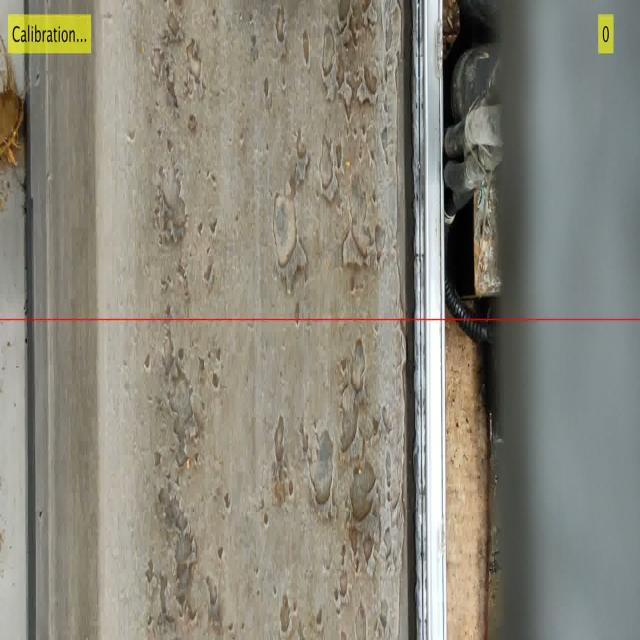Coconut-Conveyor-Belt: (0, 56, 26, 148)
